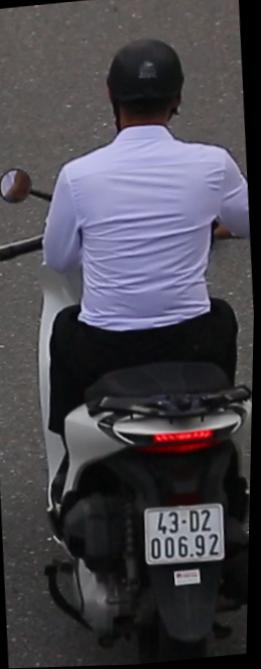LP: (139, 492, 232, 575)
helmet: (97, 26, 193, 158)
